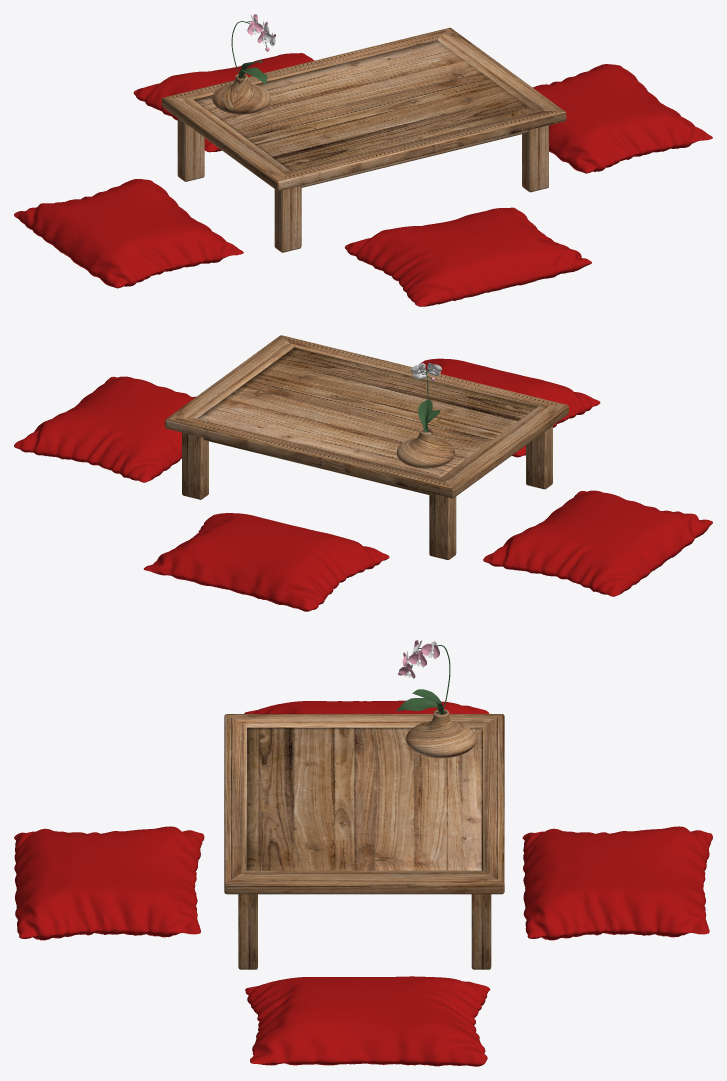
File: table_with_cusions.glb
The picture shows the model from 3 angles, top to bottom: view 1: azimuth 30°, elevation 25°; view 2: azimuth 150°, elevation 25°; view 3: azimuth 270°, elevation 25°; orthographic projection. The views are drawn at different scales.
Visible parts, largest first — view 1: Cube, Line35, Line35.003, Line35.002, Line35.001, object; view 2: Cube, Line35.001, Line35.003, Line35.002, Line35, object; view 3: Cube, Line35.002, Line35, Line35.001, object, Line35.003.
Boxes of the visible parts, x1=… form: Cube: x1=161, y1=27, x2=566, y2=252; Line35: x1=345, y1=207, x2=591, y2=306; Line35.003: x1=14, y1=179, x2=243, y2=288; Line35.002: x1=532, y1=64, x2=712, y2=173; Line35.001: x1=133, y1=53, x2=313, y2=152; object: x1=212, y1=14, x2=275, y2=114; Cube: x1=165, y1=335, x2=568, y2=559; Line35.001: x1=143, y1=513, x2=389, y2=611; Line35.003: x1=483, y1=490, x2=712, y2=596; Line35.002: x1=14, y1=376, x2=195, y2=482; Line35: x1=418, y1=358, x2=600, y2=457; object: x1=396, y1=362, x2=454, y2=468; Cube: x1=224, y1=714, x2=504, y2=969; Line35.002: x1=245, y1=976, x2=490, y2=1066; Line35: x1=14, y1=826, x2=204, y2=940; Line35.001: x1=522, y1=826, x2=712, y2=940; object: x1=396, y1=640, x2=476, y2=758; Line35.003: x1=244, y1=700, x2=489, y2=713.
Bounding box in the file's own units: 9.92 × 2.63 × 8.22.
Materials: 5 (1 with a texture image).
